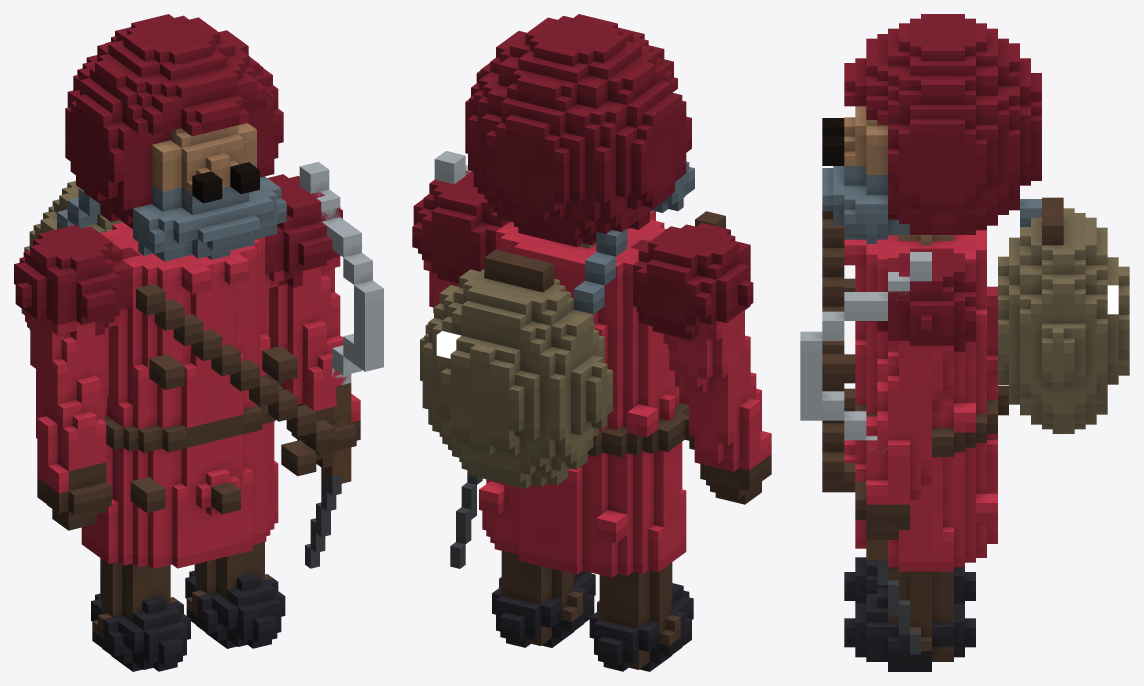
Rendered from u_receleur__lame.glb.
3 renders of one model, left to right at view 1: azimuth 30°, elevation 25°; view 2: azimuth 150°, elevation 25°; view 3: azimuth 270°, elevation 25°, orthographic. The views are drawn at different scales.
Visible parts, largest first — view 1: receleur_body, receleur_weapon; view 2: receleur_body, receleur_weapon; view 3: receleur_body, receleur_weapon.
Part boxes in pixels (x1,y1,x2,y2): receleur_body: (14,14,360,671); receleur_weapon: (299,162,383,568); receleur_body: (412,14,771,671); receleur_weapon: (434,151,482,568); receleur_body: (822,14,1129,671); receleur_weapon: (800,252,931,654).
Bounding box in the file's own units: 0.85 × 1.52 × 0.75.
